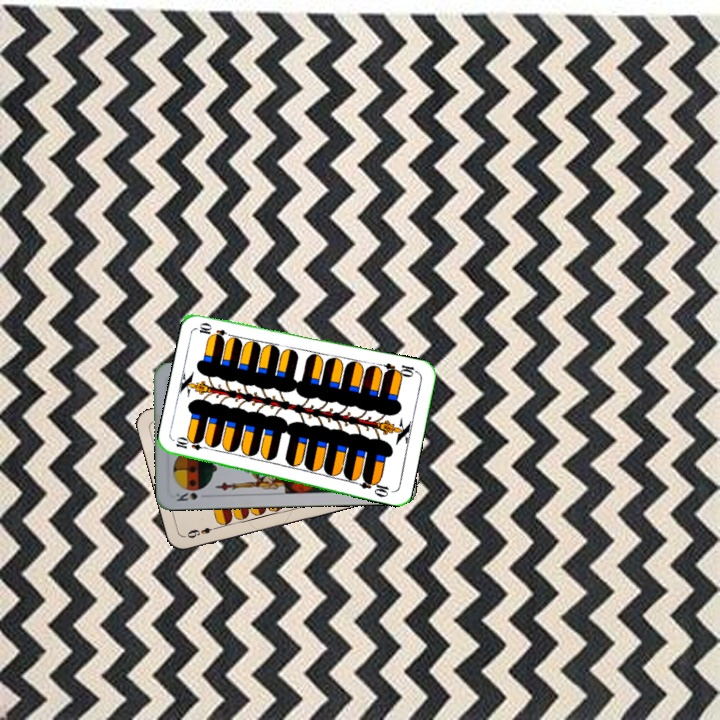E10: (380, 359, 421, 380), (172, 435, 212, 453)
E9: (181, 523, 221, 541)
SK: (172, 488, 200, 504)
